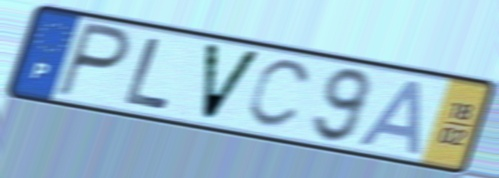9: (308, 66, 373, 147)
A: (354, 77, 426, 158)
C: (243, 58, 316, 133)
L: (120, 34, 174, 113)
P: (53, 19, 135, 102)
V: (200, 39, 265, 125)
